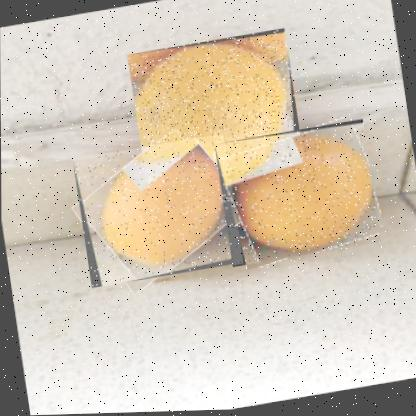orange: (127, 28, 305, 190), (72, 134, 243, 290), (214, 120, 382, 270)
